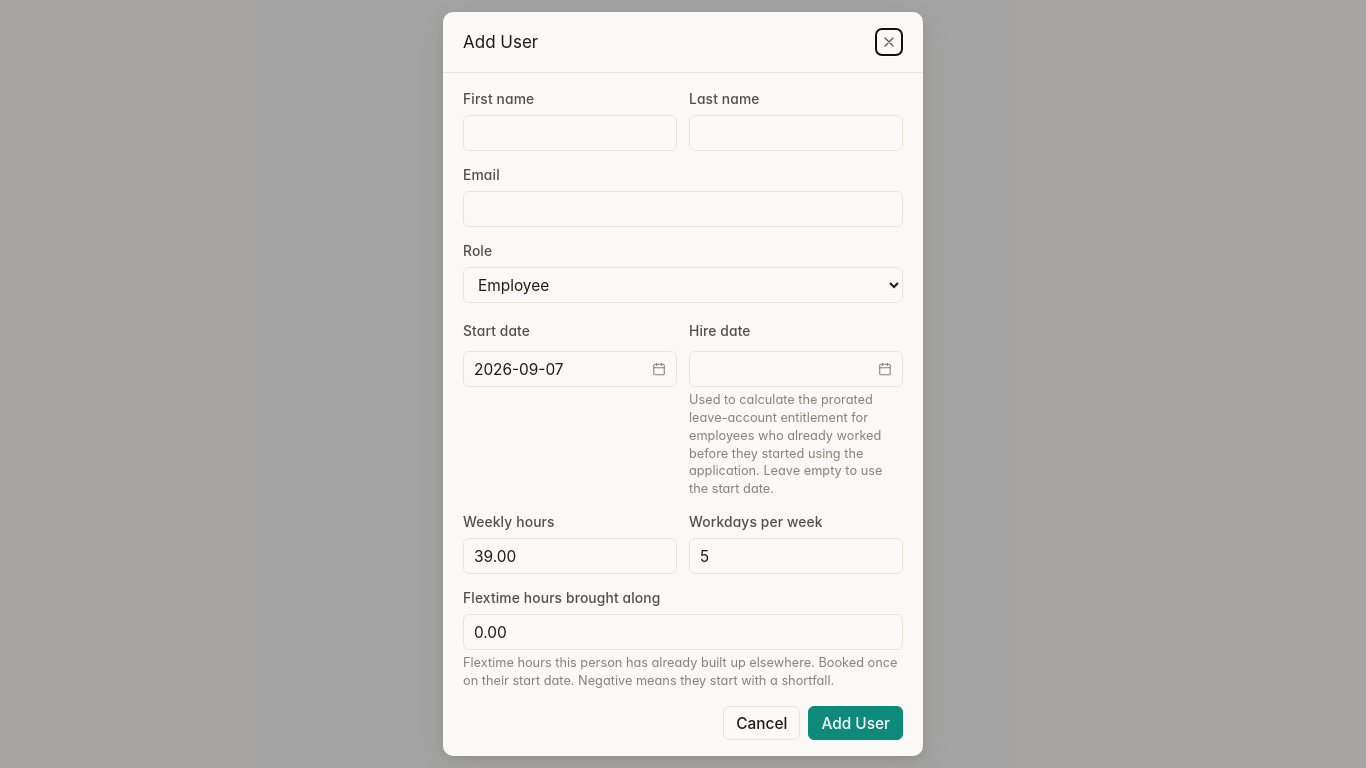
Test: UserDialog › sets all leave accounts to zero for assistants and restores them after switching back
Select "Assistant" in the dropdown with id "user-role" at (683, 285), box [463, 267, 903, 303]
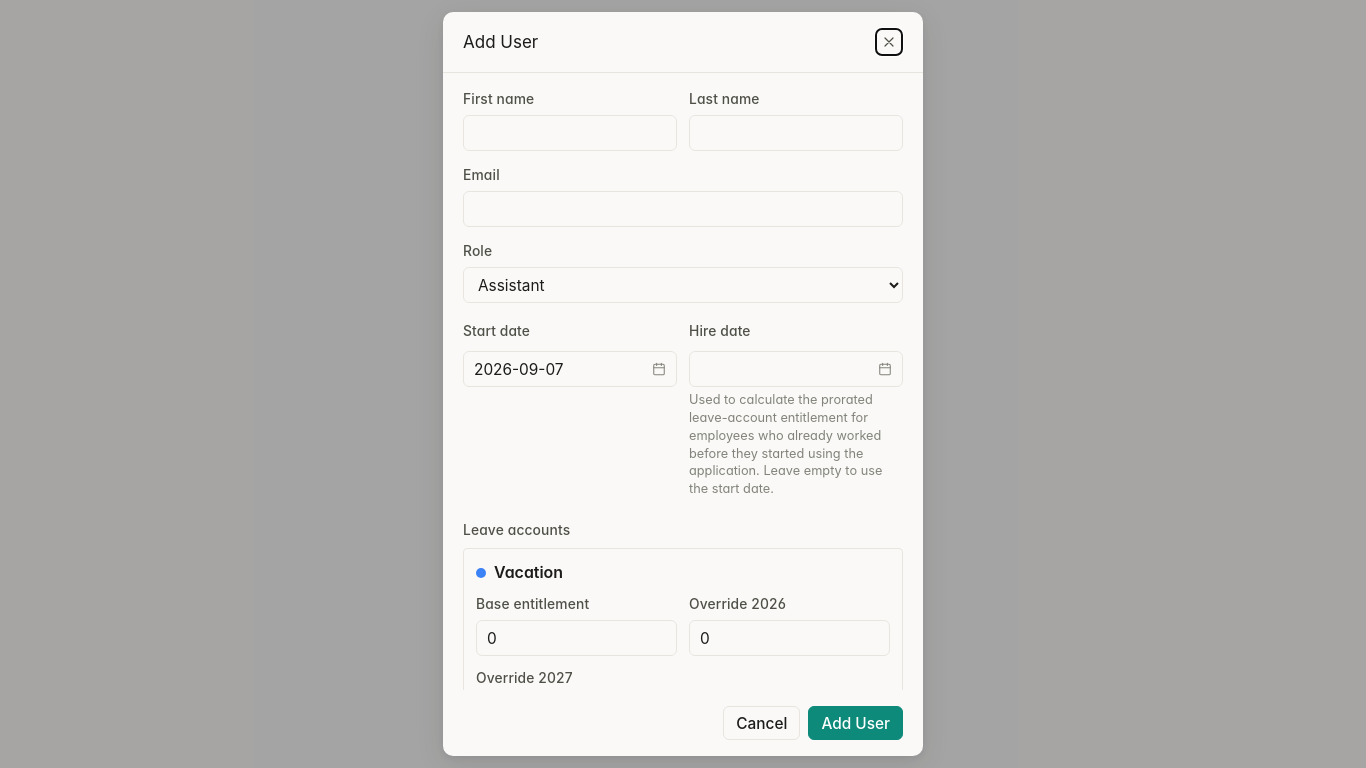
expect the number field with id "leave-account-1-base" holds "0": met, box [476, 620, 677, 656]
Select "Employee" in the dropdown with id "user-role" at (683, 285), box [463, 267, 903, 303]
(page scrolled)
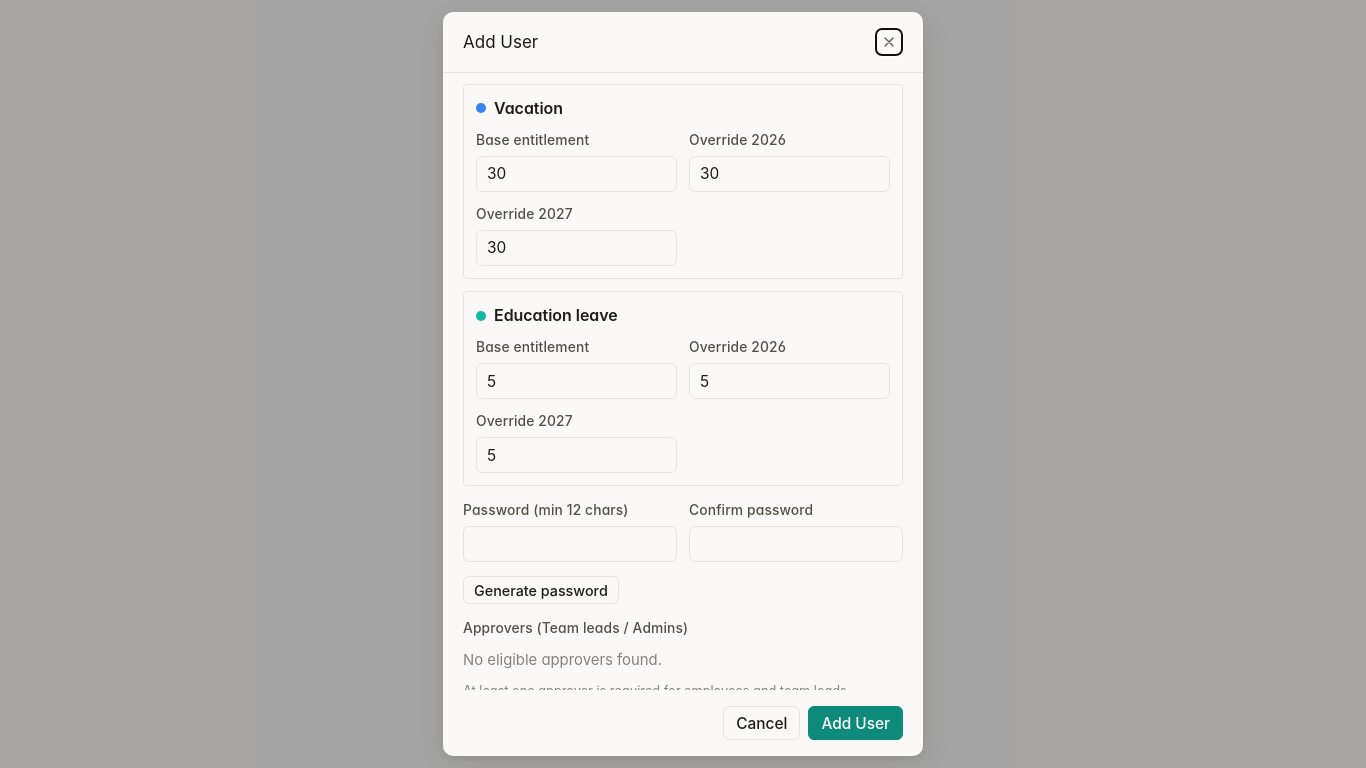
expect the number field with id "leave-account-1-base" holds "30": met, box [476, 156, 677, 192]
expect the number field with id "leave-account-8-current" holds "5": met, box [689, 363, 890, 399]
